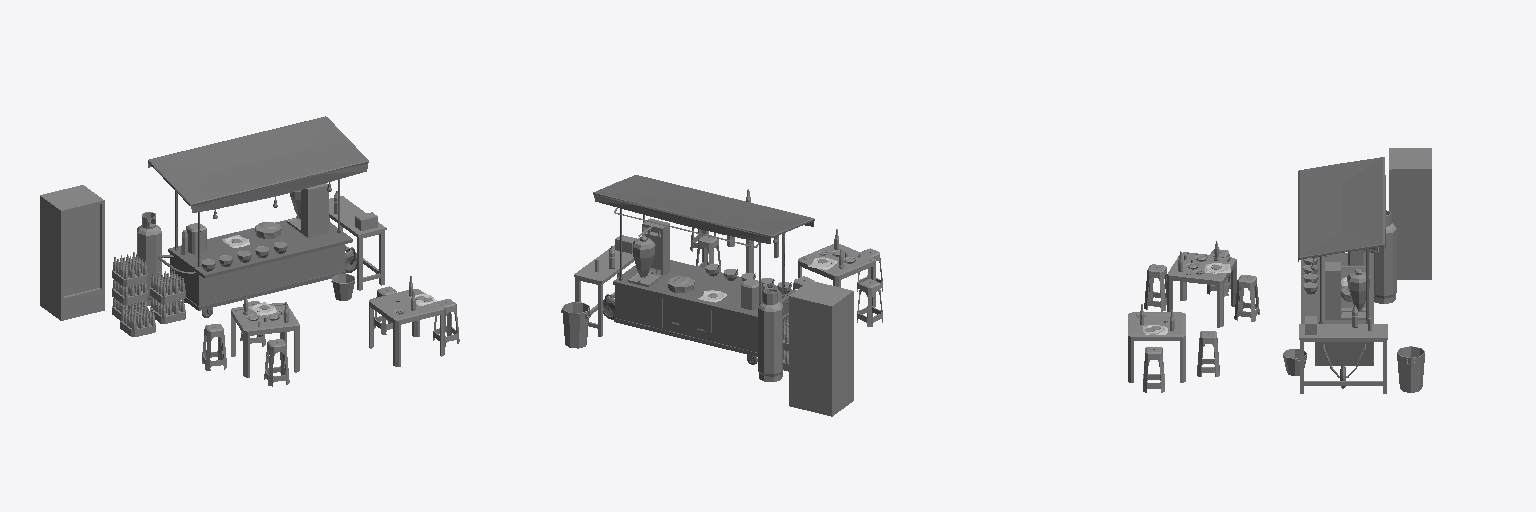
Rendered from puestoTacos.obj.
3 renders of one model, left to right at view 1: azimuth 30°, elevation 25°; view 2: azimuth 150°, elevation 25°; view 3: azimuth 270°, elevation 25°, orthographic.
Visible parts, largest first — view 1: cart, Refrigerator, RotuloMexicano, Table, mesaLogo001, shepherd_spinning, mesaLogo, gas_tank, Soda_Box_02, Soda_Box_01, Chair, Chair003 (+5 smaller); view 2: cart, Refrigerator, gas_tank, Table, shepherd_spinning, trash_can, mesaLogo, Chair003, Meat_Shepherd, disposable_plates; view 3: cart, Refrigerator, Table, gas_tank, mesaLogo, shepherd_spinning, mesaLogo001, trash_can, Chair004, Chair, Chair002, Chair001 (+3 smaller).
Part boxes in pixels (x1,y1,x2,y2): cart: (148, 116, 368, 310); Refrigerator: (40, 185, 104, 320); RotuloMexicano: (199, 244, 344, 305); Table: (329, 196, 386, 290); mesaLogo001: (369, 289, 444, 366); shepherd_spinning: (287, 183, 328, 237); mesaLogo: (231, 303, 299, 377); gas_tank: (137, 212, 161, 305); Soda_Box_02: (113, 252, 146, 312); Soda_Box_01: (151, 269, 184, 316); Chair: (264, 339, 289, 386); Chair003: (202, 324, 226, 370); cart: (593, 175, 814, 356); Refrigerator: (789, 280, 853, 416); gas_tank: (758, 288, 782, 381); Table: (574, 245, 634, 336); shepherd_spinning: (628, 218, 669, 286); trash_can: (561, 302, 590, 348); mesaLogo: (798, 244, 875, 307); Chair003: (857, 279, 882, 326); Meat_Shepherd: (633, 235, 655, 276); disposable_plates: (741, 279, 761, 310); cart: (1298, 157, 1385, 365); Refrigerator: (1389, 148, 1431, 279); Table: (1299, 324, 1387, 393); gas_tank: (1371, 210, 1396, 303); mesaLogo: (1167, 252, 1236, 327); shepherd_spinning: (1325, 262, 1365, 319); mesaLogo001: (1128, 312, 1185, 382); trash_can: (1397, 346, 1424, 392); Chair004: (1234, 275, 1259, 321); Chair: (1144, 264, 1166, 311); Chair002: (1197, 331, 1219, 376); Chair001: (1143, 347, 1164, 392).
Size of the model in its own units: 25.45 by 12.48 by 23.9.